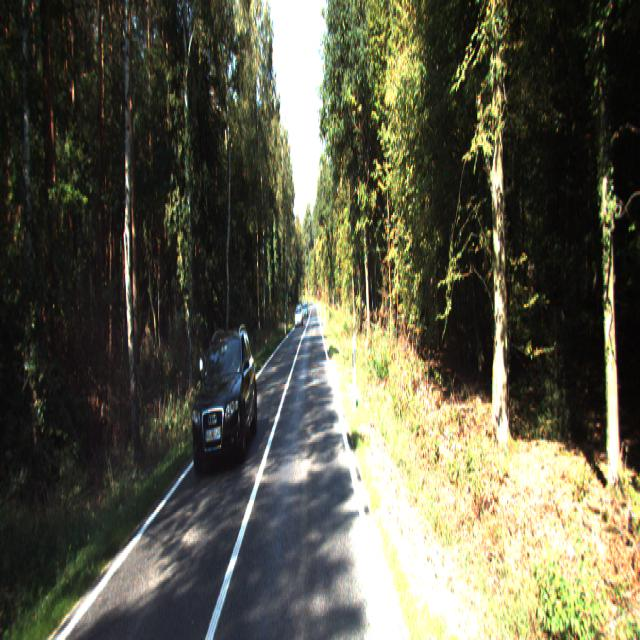Car: (190, 322, 258, 474)
